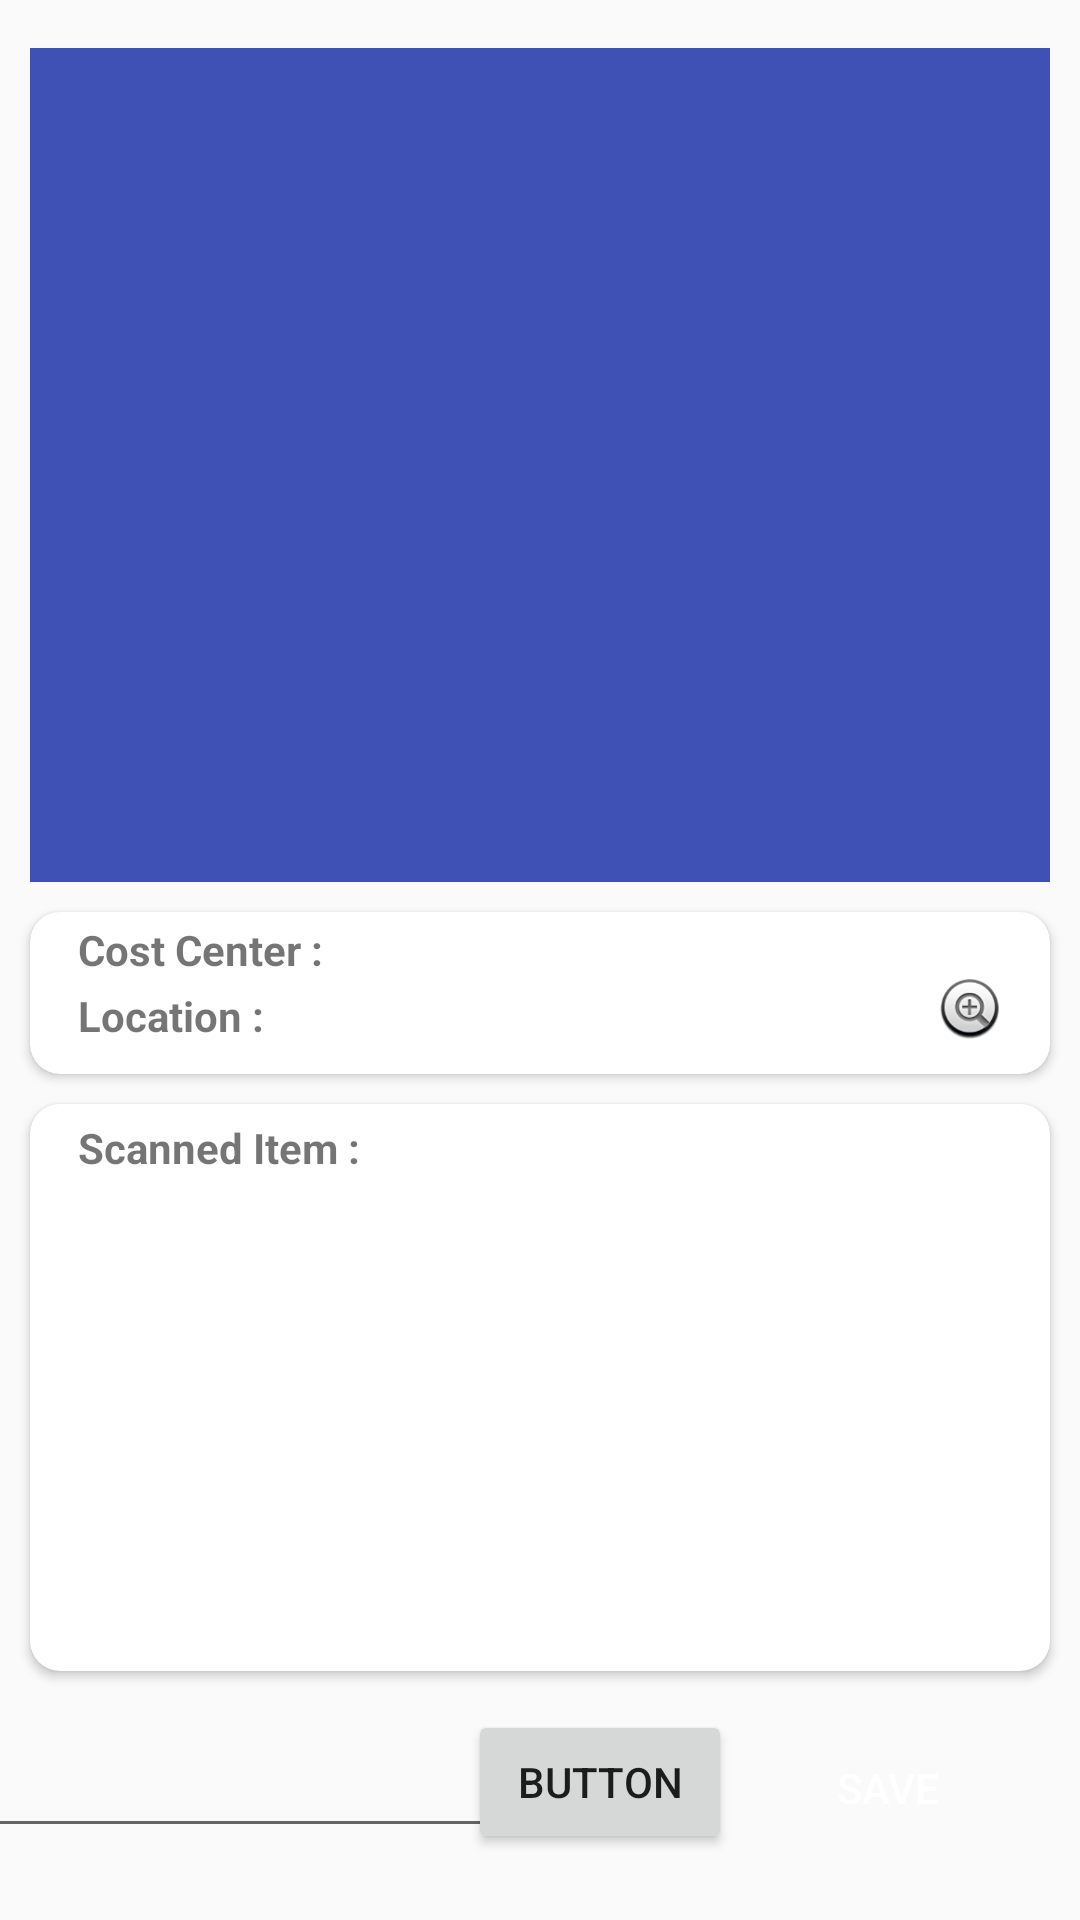

Point at icon controls on the screen. Image size 1080 x 1920, points as (x,y).
plus: (969,1009)
